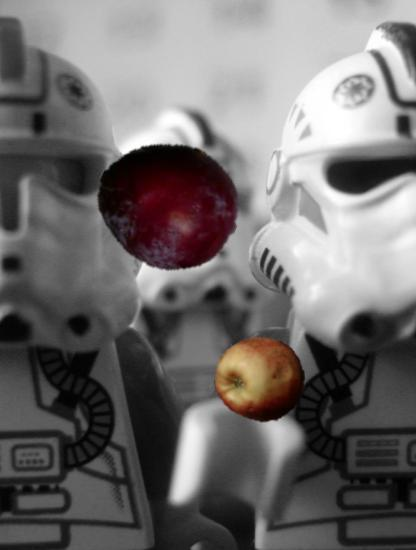Apple: (214, 334, 306, 426)
Plum: (96, 132, 241, 277)
